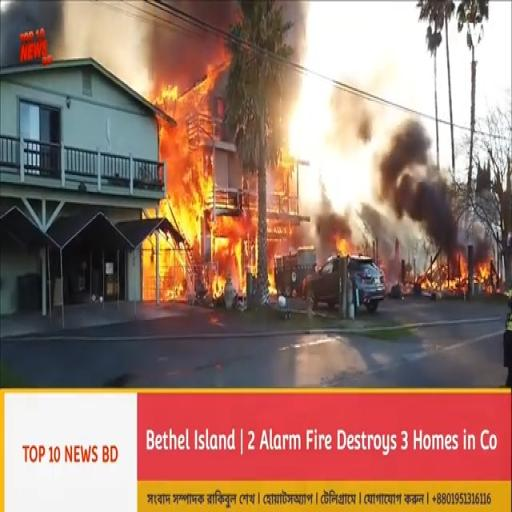fire: (428, 257, 498, 303), (166, 188, 205, 252), (151, 75, 190, 112)
smoke: (376, 116, 448, 251)
